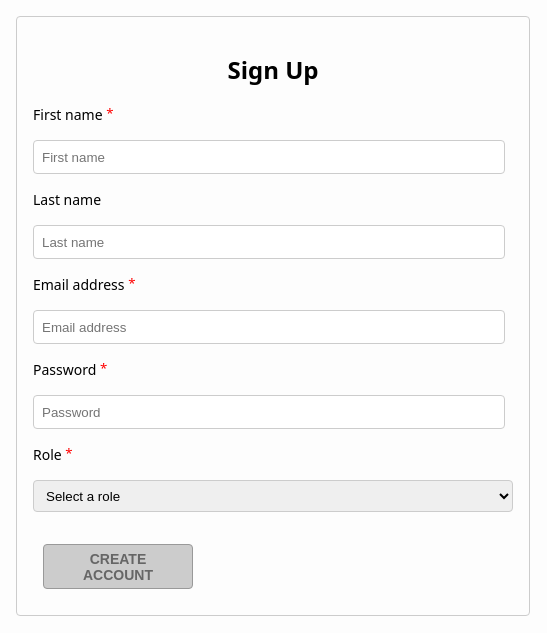
Test case: Registration form › enables submit button when form is valid and dirty
# Fill out ALL form fields
Type "John" into the field with placeholder "First name" at (269, 157), box x1=33 y1=140 x2=505 y2=174
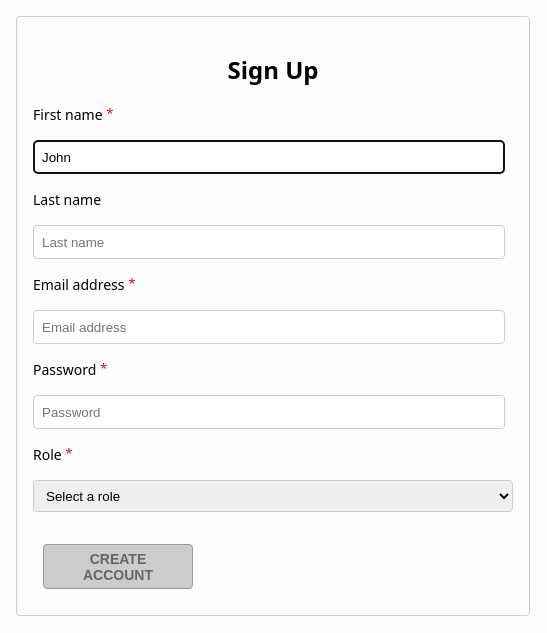
Type "Doe" into the field with placeholder "Last name" at (269, 242), box x1=33 y1=225 x2=505 y2=259
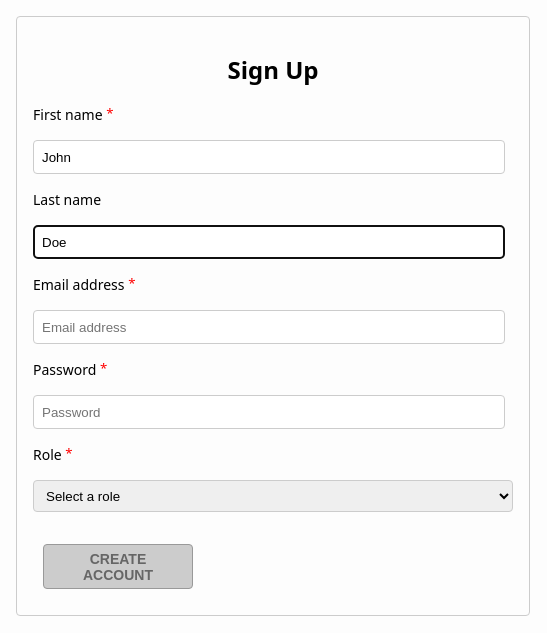
# Clear and retype email to trigger validation
Type "john@example.com" into the field with placeholder "Email address" at (269, 327), box x1=33 y1=310 x2=505 y2=344
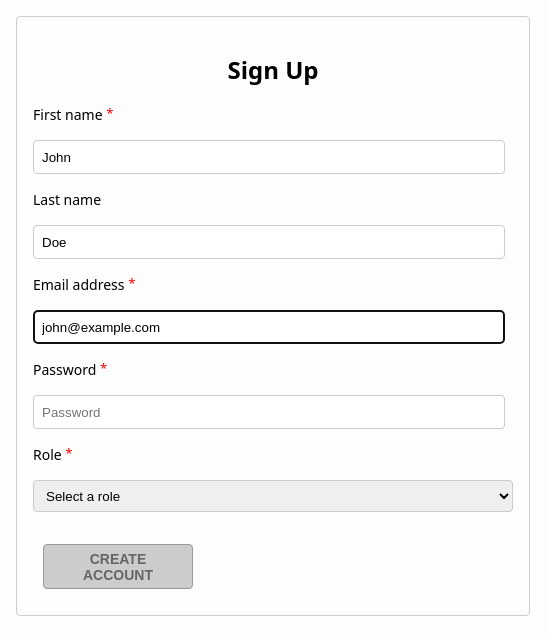
Type "password123" into the password field with placeholder "Password" at (269, 412), box x1=33 y1=395 x2=505 y2=429
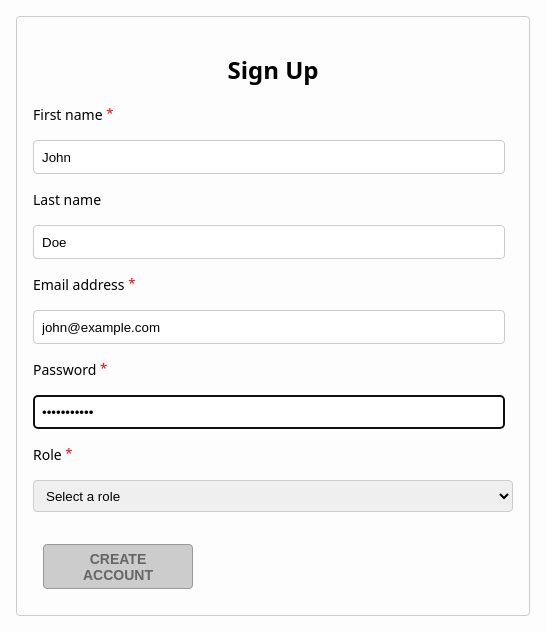
Select "Individual" in the dropdown at (273, 496), box x1=33 y1=480 x2=513 y2=512
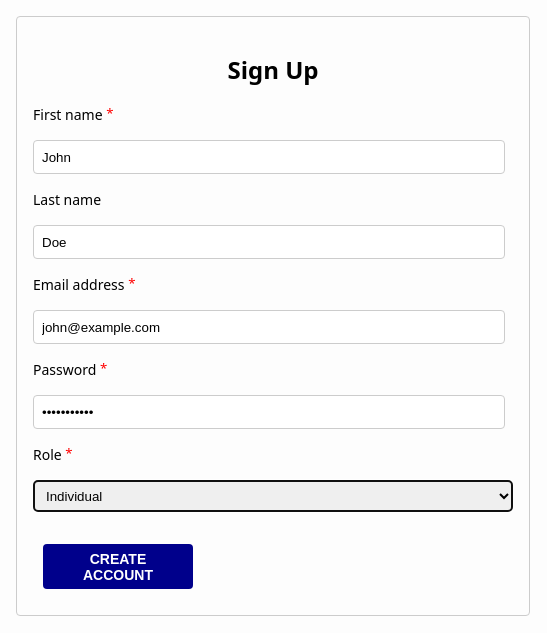
Check: the button "Create account" is enabled, box x1=43 y1=544 x2=193 y2=589
